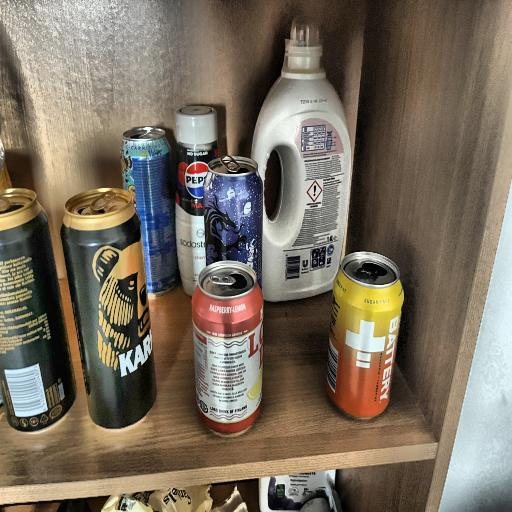karhu: (45, 176, 166, 428), (1, 174, 81, 440)
koff: (180, 265, 278, 446)
